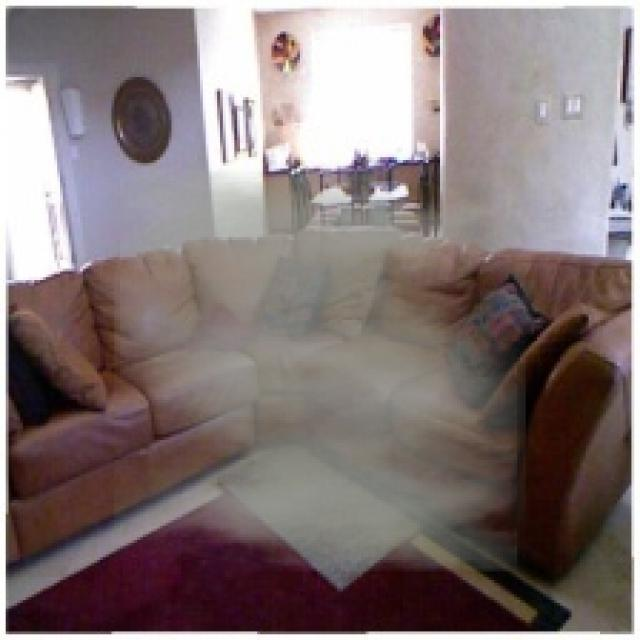smoke: (114, 168, 526, 572)
